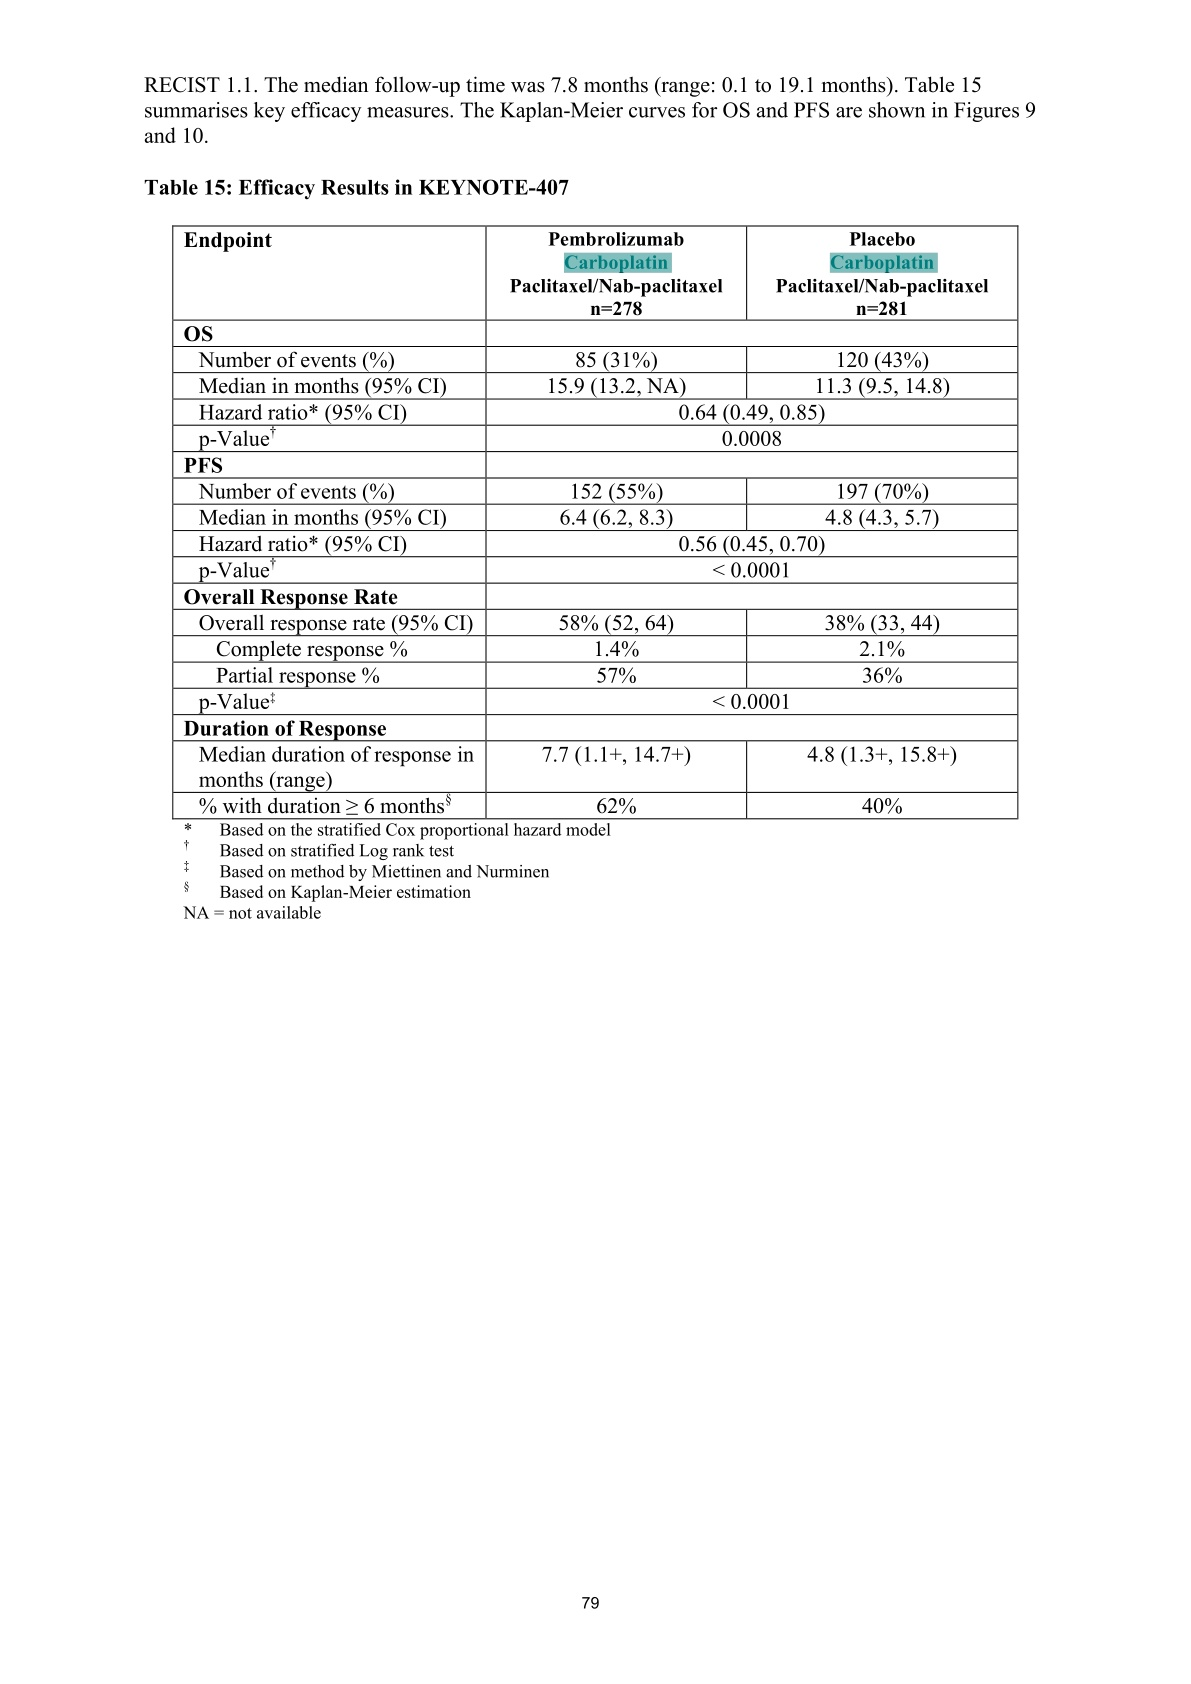merged_cells: (171, 224, 1020, 819)
